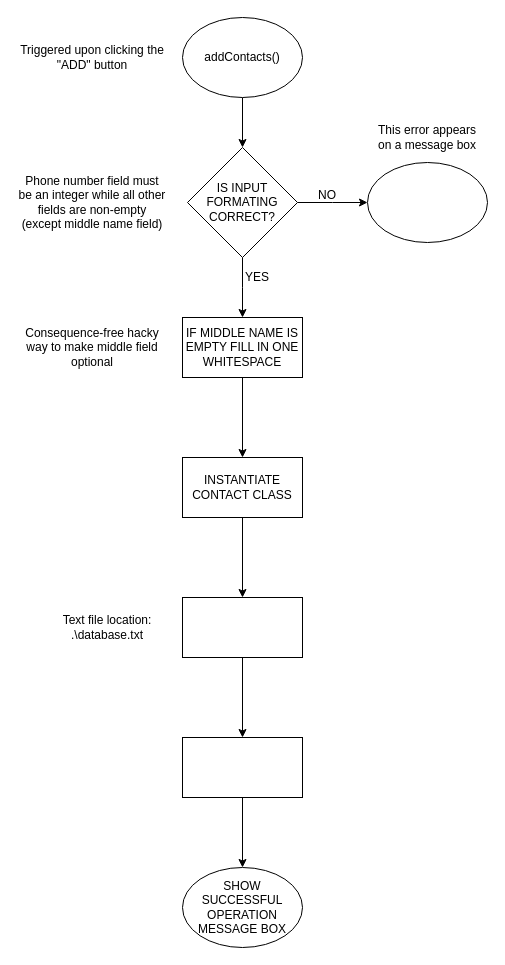
Some shapes in this 505 by 965 pixel diagram are drawn without their labels. The shapes that lost their labels are listed below. From the top down, each one's centre as x and y in pixels, then its label:
At point 427,202: "DISPLAY ERROR: Invalid Input Detected".
At point 242,627: "READ AND MAKE-LIST THE TEXT FILE".
At point 242,767: "WRITE USER INPUT INTO LIST AND WRITE THE LIST INTO TEXT FILE".
